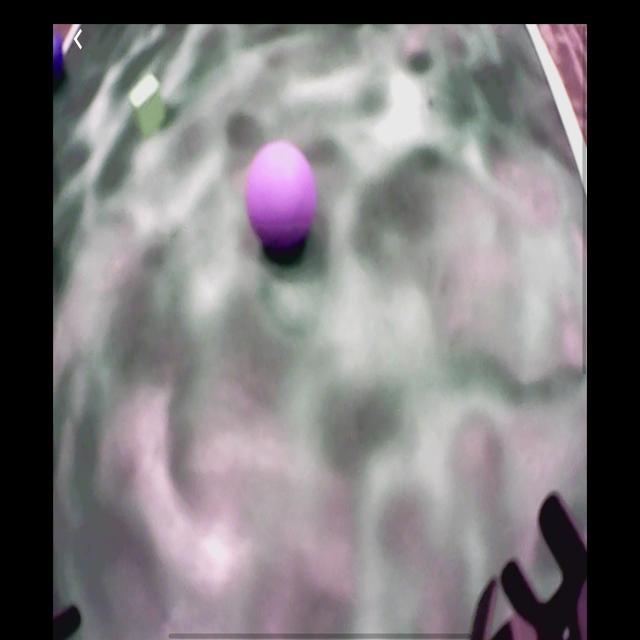ball: (246, 141, 316, 249), (56, 34, 70, 90)
